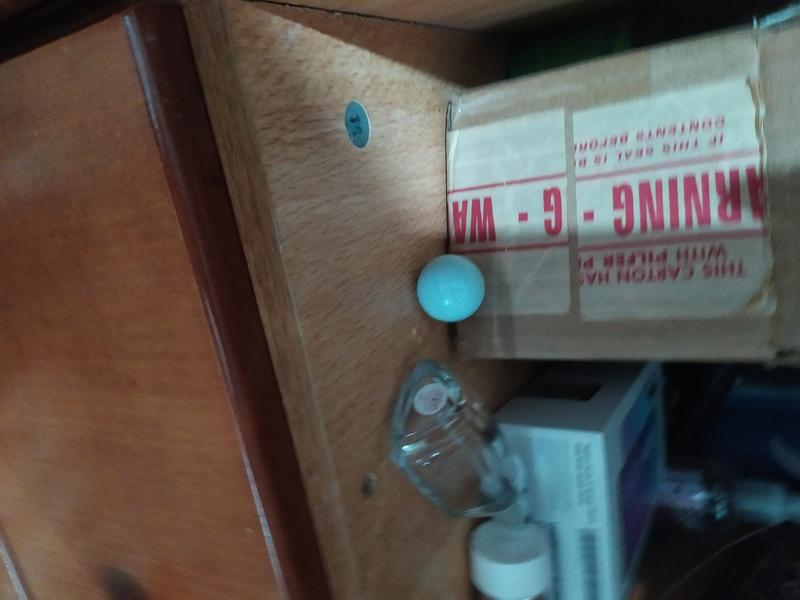Warning: (413, 251, 489, 326)
